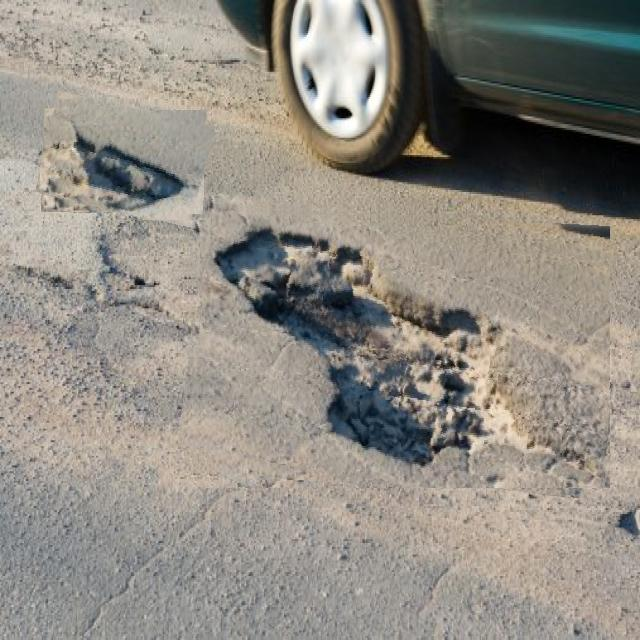Pothole: (184, 204, 610, 488), (40, 100, 212, 220)
